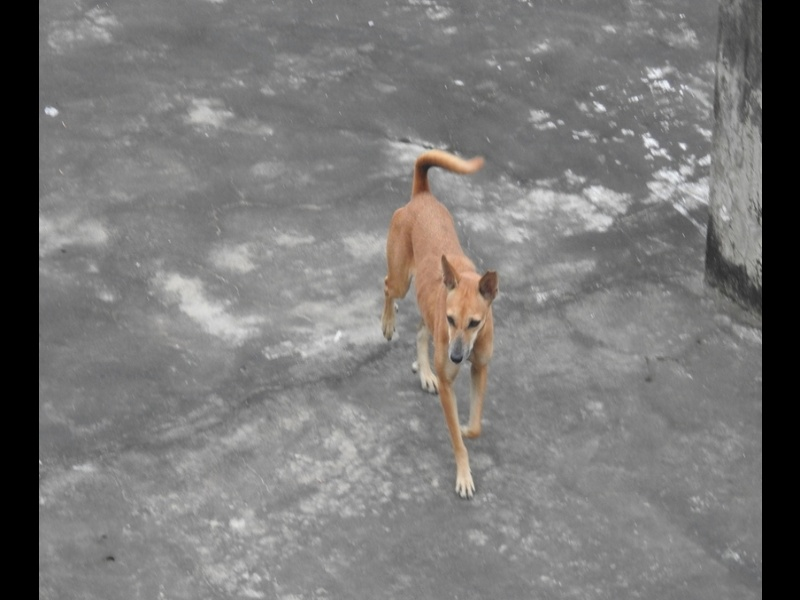dog: (376, 146, 513, 497)
